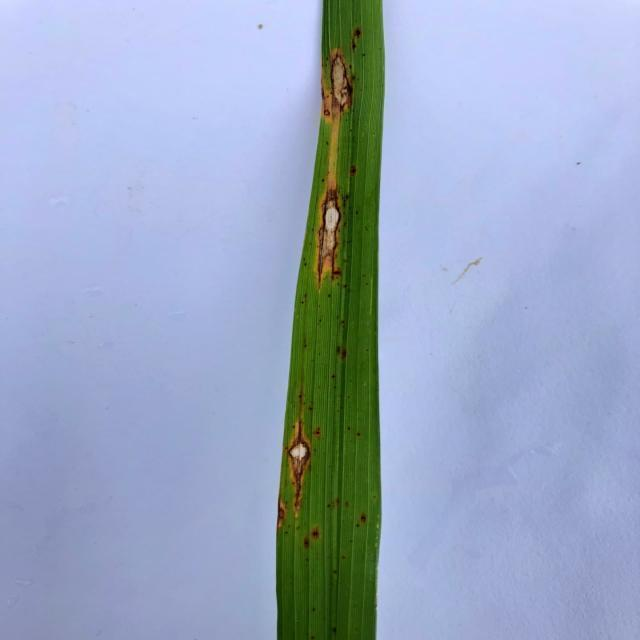Leaf_Blast: (309, 182, 347, 292), (283, 415, 317, 512), (325, 42, 358, 116), (345, 25, 369, 53), (274, 498, 291, 533), (353, 509, 373, 533), (297, 531, 313, 553), (308, 524, 325, 542)
